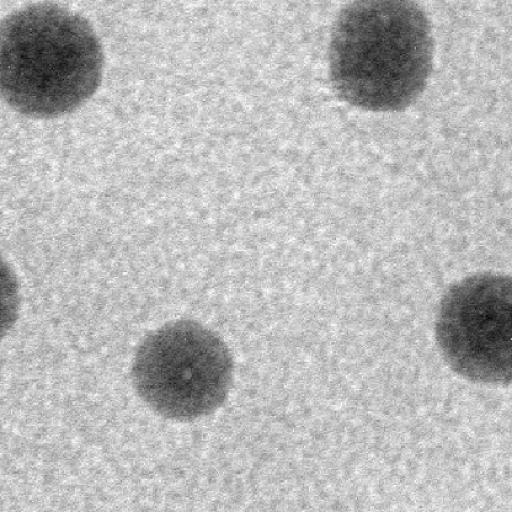Nanoparticles: (0, 0, 111, 124), (327, 0, 436, 112), (130, 314, 236, 424), (432, 264, 512, 386)
